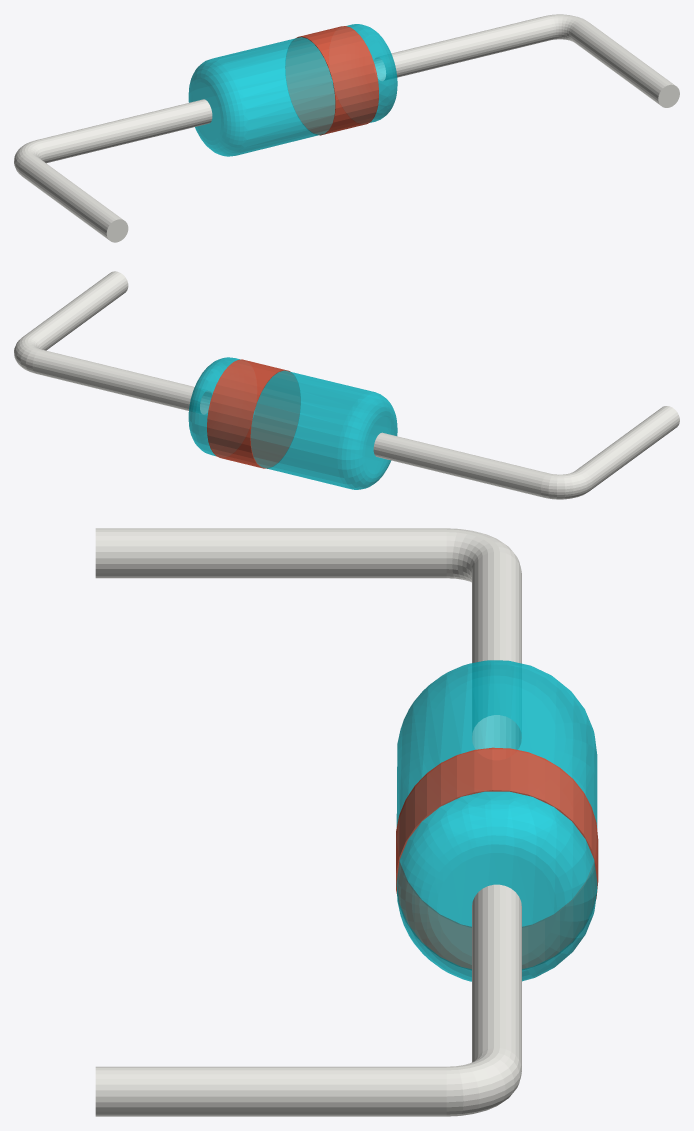
The model's file is D_DO-35_SOD27_P12.70mm_Horizontal.glb.
The picture shows the model from 3 angles, top to bottom: view 1: azimuth 30°, elevation 25°; view 2: azimuth 150°, elevation 25°; view 3: azimuth 270°, elevation 25°; orthographic projection. The views are drawn at different scales.
Visible parts, largest first — view 1: Shape_IndexedFaceSet.010, Shape_IndexedFaceSet.008, Shape_IndexedFaceSet.003, Shape_IndexedFaceSet.013, Shape_IndexedFaceSet.011, Shape_IndexedFaceSet, Shape_IndexedFaceSet.015, Shape_IndexedFaceSet.005, Shape_IndexedFaceSet.006, Shape_IndexedFaceSet.012, Shape_IndexedFaceSet.004, Shape_IndexedFaceSet.002 (+3 smaller); view 2: Shape_IndexedFaceSet.010, Shape_IndexedFaceSet.008, Shape_IndexedFaceSet.003, Shape_IndexedFaceSet.013, Shape_IndexedFaceSet.011, Shape_IndexedFaceSet.015, Shape_IndexedFaceSet, Shape_IndexedFaceSet.005, Shape_IndexedFaceSet.014, Shape_IndexedFaceSet.006, Shape_IndexedFaceSet.012, Shape_IndexedFaceSet.004 (+1 smaller); view 3: Shape_IndexedFaceSet.010, Shape_IndexedFaceSet, Shape_IndexedFaceSet.015, Shape_IndexedFaceSet.005, Shape_IndexedFaceSet.011, Shape_IndexedFaceSet.008, Shape_IndexedFaceSet.013, Shape_IndexedFaceSet.003, Shape_IndexedFaceSet.004, Shape_IndexedFaceSet.012, Shape_IndexedFaceSet.002, Shape_IndexedFaceSet.006 (+1 smaller).
Part boxes in pixels (x1,y1,x2,y2): Shape_IndexedFaceSet.010: (199,37,335,155); Shape_IndexedFaceSet.008: (285,26,378,134); Shape_IndexedFaceSet.003: (374,16,553,80); Shape_IndexedFaceSet.013: (37,99,212,163); Shape_IndexedFaceSet.011: (188,58,248,156); Shape_IndexedFaceSet: (570,20,674,105); Shape_IndexedFaceSet.015: (19,155,122,239); Shape_IndexedFaceSet.005: (348,24,397,121); Shape_IndexedFaceSet.006: (332,24,387,122); Shape_IndexedFaceSet.012: (191,82,221,140); Shape_IndexedFaceSet.004: (367,40,394,97); Shape_IndexedFaceSet.002: (545,14,586,41); Shape_IndexedFaceSet.010: (250,370,386,489); Shape_IndexedFaceSet.008: (207,359,300,468); Shape_IndexedFaceSet.003: (32,349,211,414); Shape_IndexedFaceSet.013: (373,432,548,497); Shape_IndexedFaceSet.011: (337,392,397,489); Shape_IndexedFaceSet.015: (575,406,679,490); Shape_IndexedFaceSet: (24,271,128,350); Shape_IndexedFaceSet.005: (188,357,237,455); Shape_IndexedFaceSet.014: (541,470,592,499); Shape_IndexedFaceSet.006: (198,358,254,456); Shape_IndexedFaceSet.012: (365,415,394,474); Shape_IndexedFaceSet.004: (191,373,218,431); Shape_IndexedFaceSet.010: (396,664,597,926); Shape_IndexedFaceSet: (95,1066,446,1116); Shape_IndexedFaceSet.015: (95,528,446,578); Shape_IndexedFaceSet.005: (397,799,597,981); Shape_IndexedFaceSet.011: (397,660,596,844); Shape_IndexedFaceSet.008: (396,747,598,968); Shape_IndexedFaceSet.013: (472,552,521,749); Shape_IndexedFaceSet.003: (472,884,521,1068); Shape_IndexedFaceSet.004: (437,853,556,955); Shape_IndexedFaceSet.012: (437,684,556,761); Shape_IndexedFaceSet.002: (446,1048,521,1116); Shape_IndexedFaceSet.006: (396,791,597,977).
Size of the model in its own units: 5.2 by 0.7945 by 1.97.
